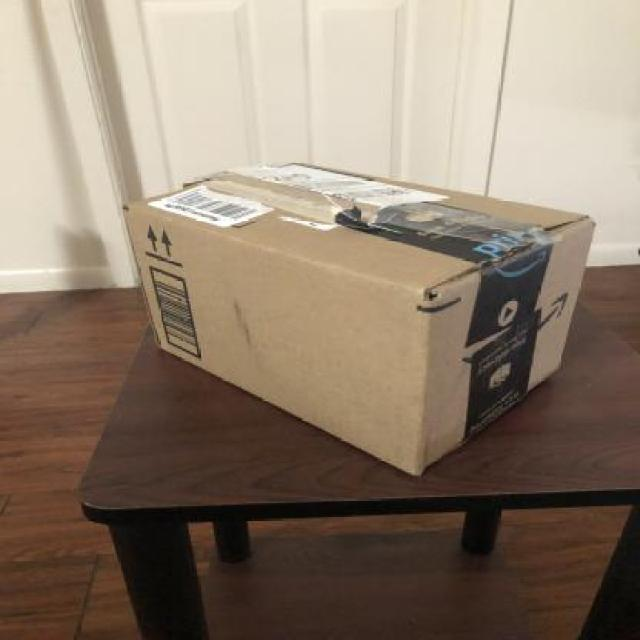cardboxes: (114, 157, 604, 488)
